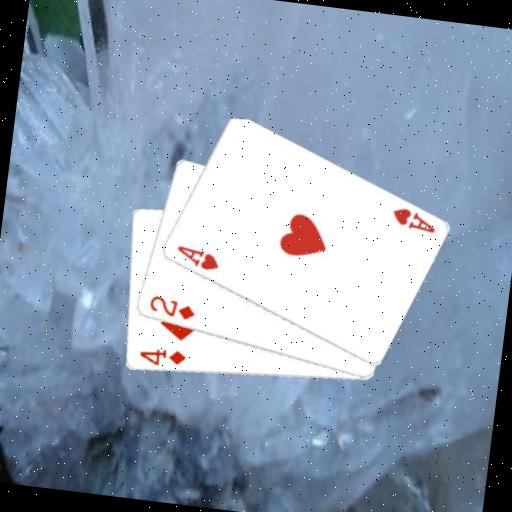2D: (145, 292, 198, 322)
4D: (135, 343, 188, 371)
AH: (172, 242, 222, 274), (388, 204, 439, 235)
